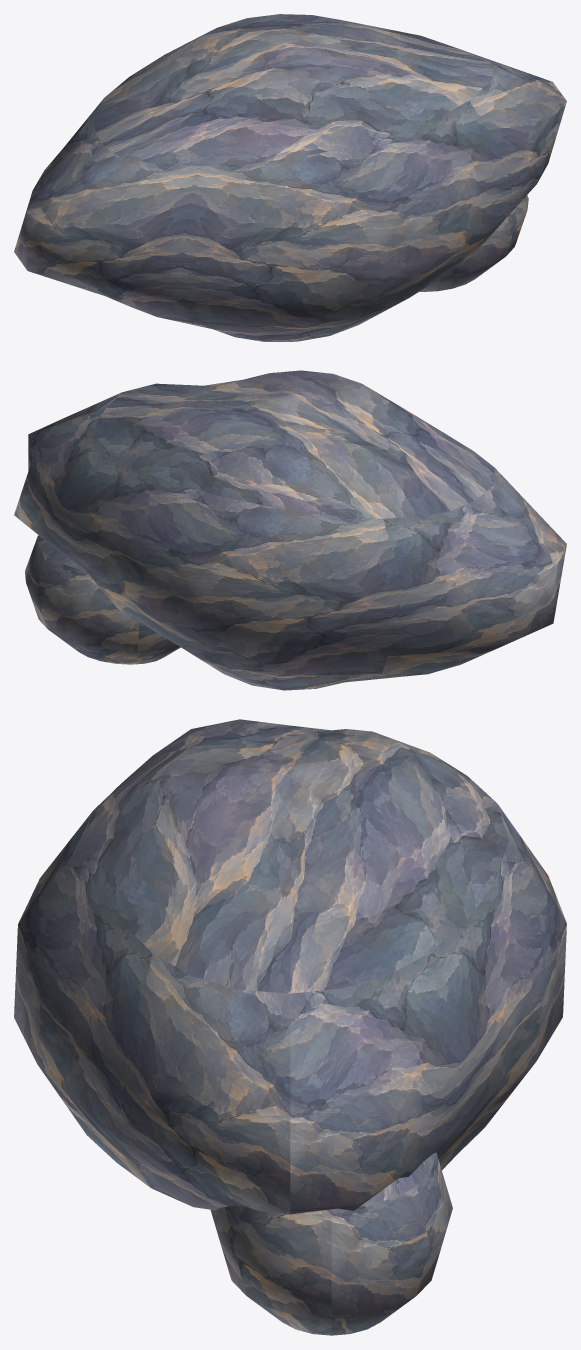
File: NaturalRock_08.fbx
3 views of the same model, one above another, from view 1: azimuth 30°, elevation 25°; view 2: azimuth 150°, elevation 25°; view 3: azimuth 270°, elevation 25° (orthographic). The views are drawn at different scales.
Visible parts, largest first — view 1: NaturalRock_08.001; view 2: NaturalRock_08.001; view 3: NaturalRock_08.001.
Boxes of the visible parts, x1,y1,x2,y2 form: NaturalRock_08.001: (14, 14, 566, 341); NaturalRock_08.001: (14, 370, 566, 690); NaturalRock_08.001: (14, 719, 566, 1335).
Bounding box in the file's own units: 443 × 233 × 270.
1 material, 1 textured.
